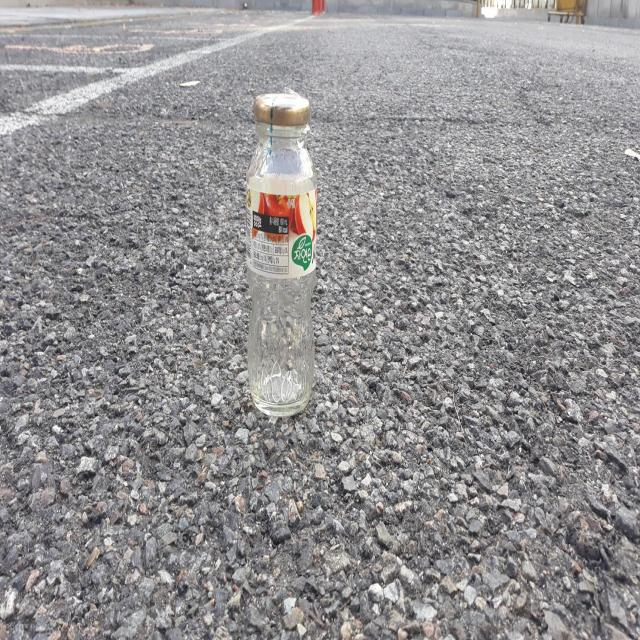glass: (246, 88, 317, 416)
